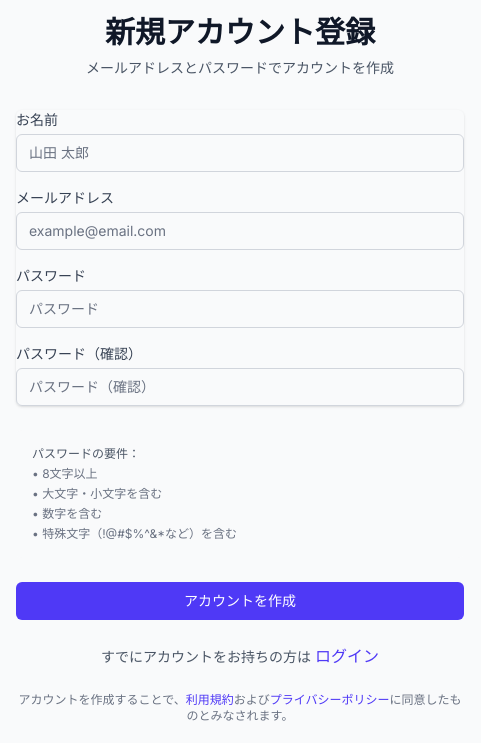
Test: SignupPage › メールアドレスが既に登録されている場合、エラーメッセージを表示する
#  フォームに入力
Type "Test User" into the field labelled "お名前" at (240, 153), box [16,134,464,172]
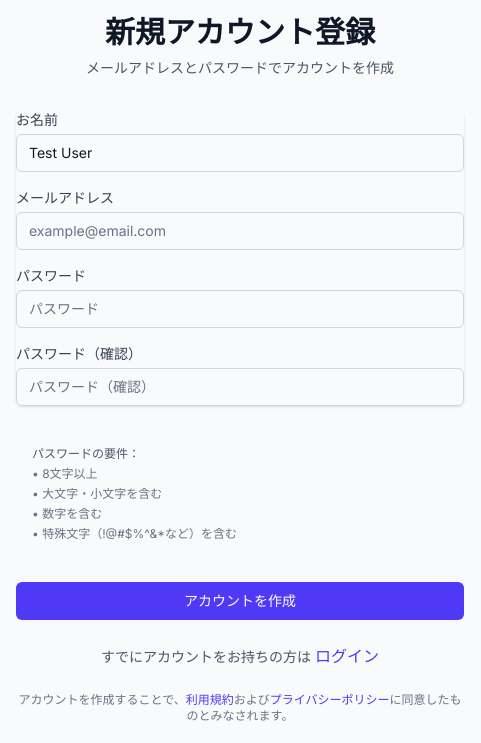
Type "existing@example.com" into the field labelled "メールアドレス" at (240, 231), box [16,212,464,250]
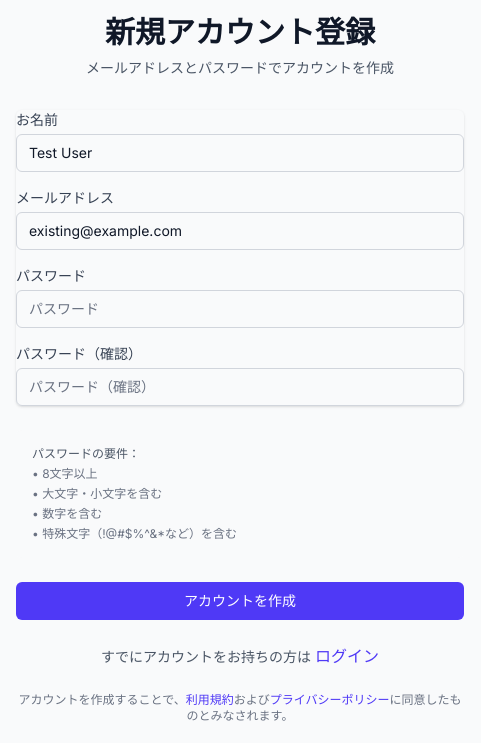
Type "Test123!@#" into the password field labelled "パスワード" at (240, 309), box [16,290,464,328]
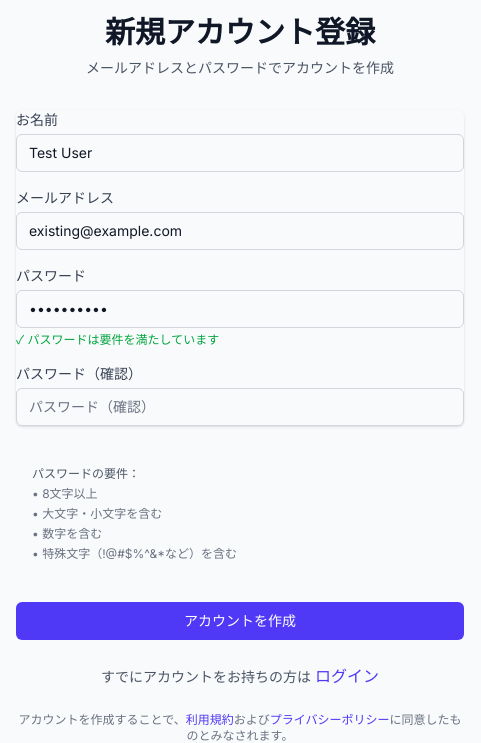
Type "Test123!@#" into the password field labelled "パスワード（確認）" at (240, 407), box [16,388,464,426]
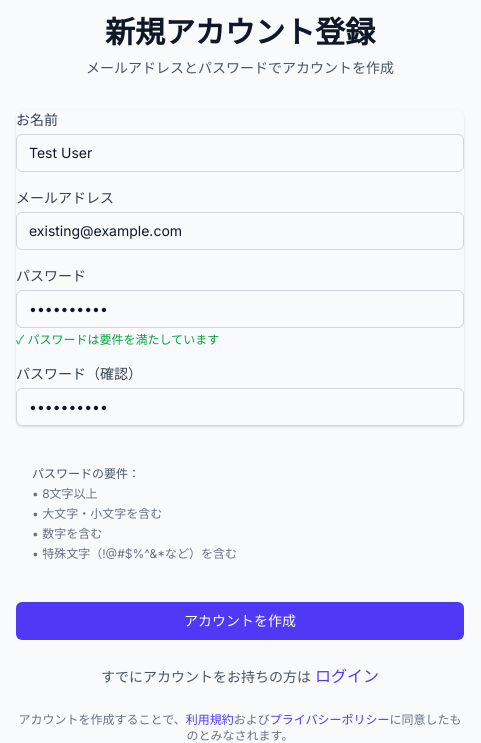
#  フォームを送信
Click the button "アカウントを作成" at (240, 621), box [16,602,464,640]
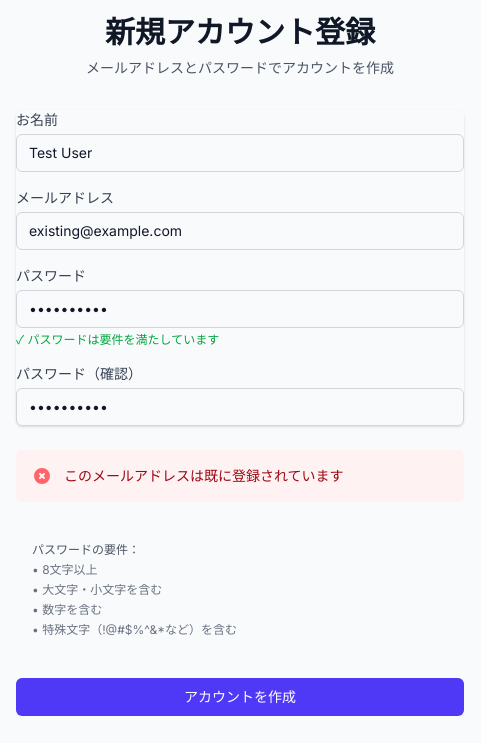
Expected: the text "このメールアドレスは既に登録されています" is shown, [64,466,344,486]
